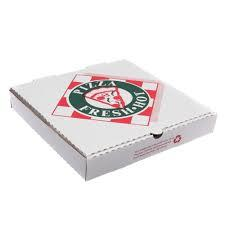Cardboard: (5, 31, 225, 193)
